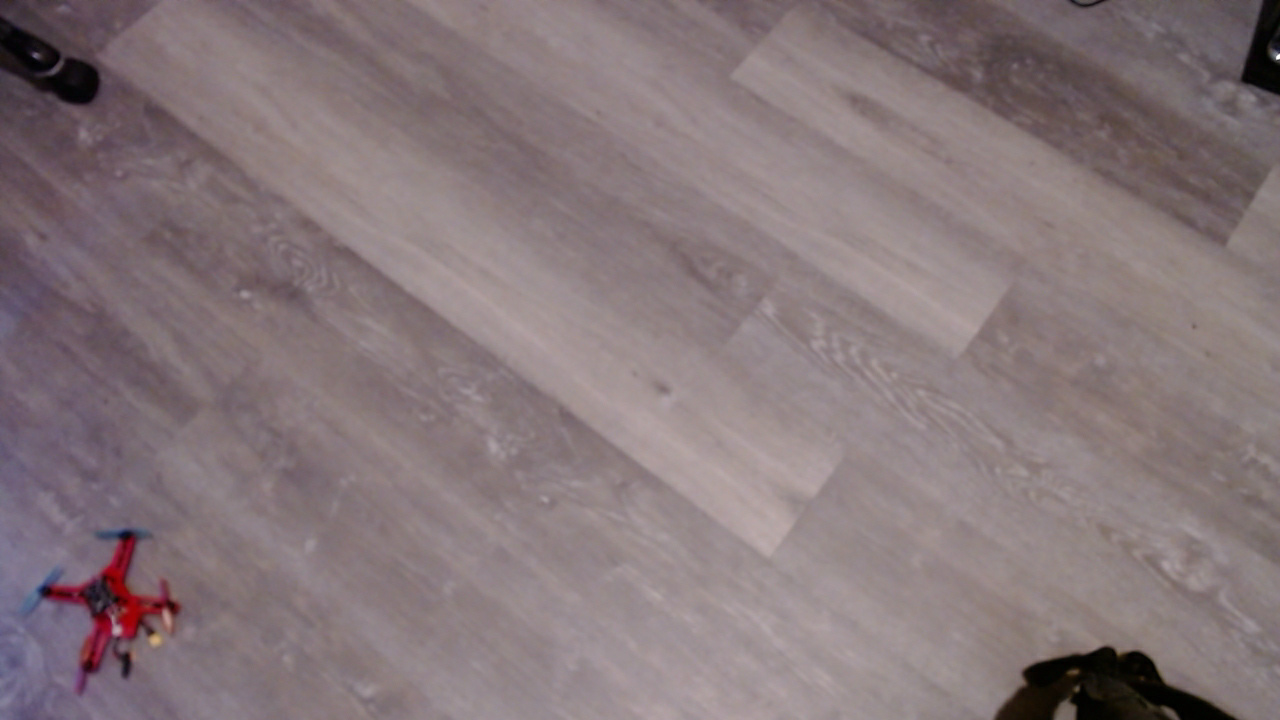crazyflie: (26, 530, 199, 699)
